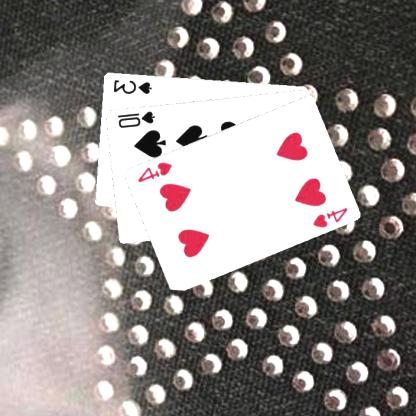10S: (116, 108, 158, 129)
3S: (112, 76, 154, 95)
4H: (312, 204, 350, 230), (136, 159, 175, 184)
